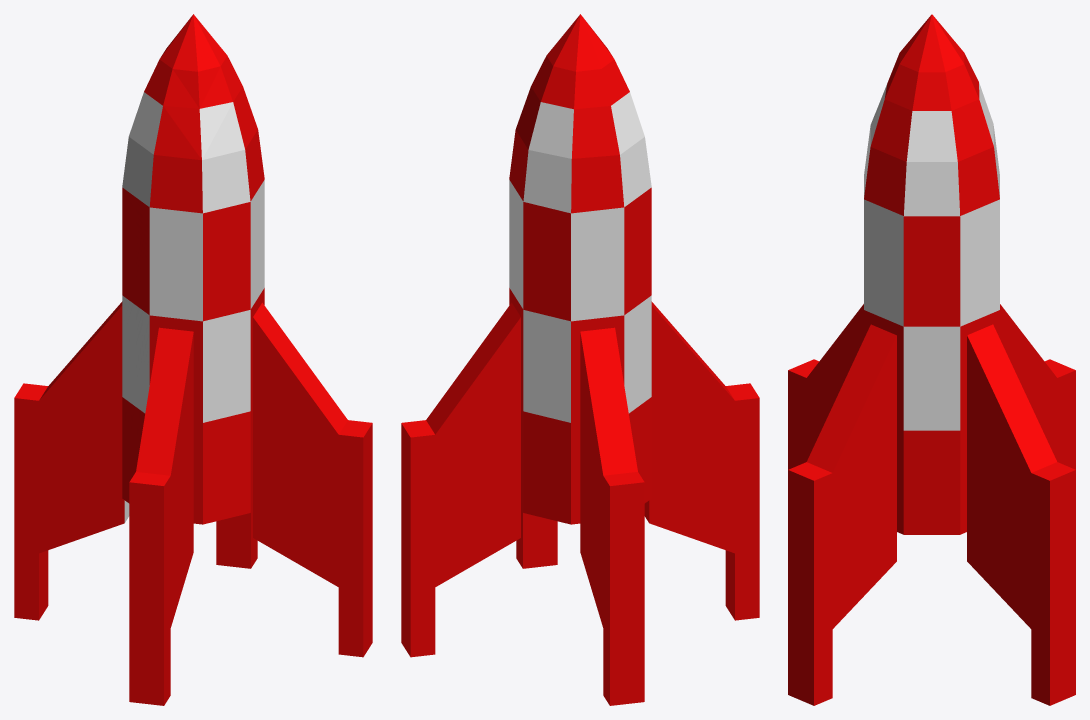
Rendered from rocket_red.fbx.
The picture shows the model from 3 angles, left to right: view 1: azimuth 30°, elevation 25°; view 2: azimuth 150°, elevation 25°; view 3: azimuth 270°, elevation 25°; orthographic projection. The views are drawn at different scales.
Visible parts, largest first — view 1: Cylinder; view 2: Cylinder; view 3: Cylinder.
Part boxes in pixels (x1,y1,x2,y2): Cylinder: [14, 14, 372, 705]; Cylinder: [401, 14, 759, 705]; Cylinder: [788, 14, 1075, 705].
Size of the model in its own units: 97.73 by 236 by 97.73.
